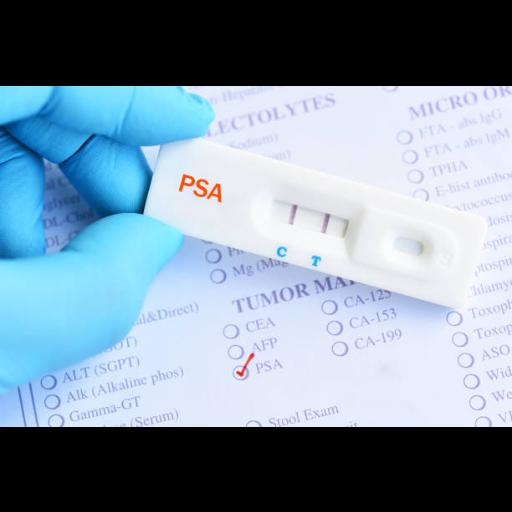Pos: (143, 132, 489, 311)
